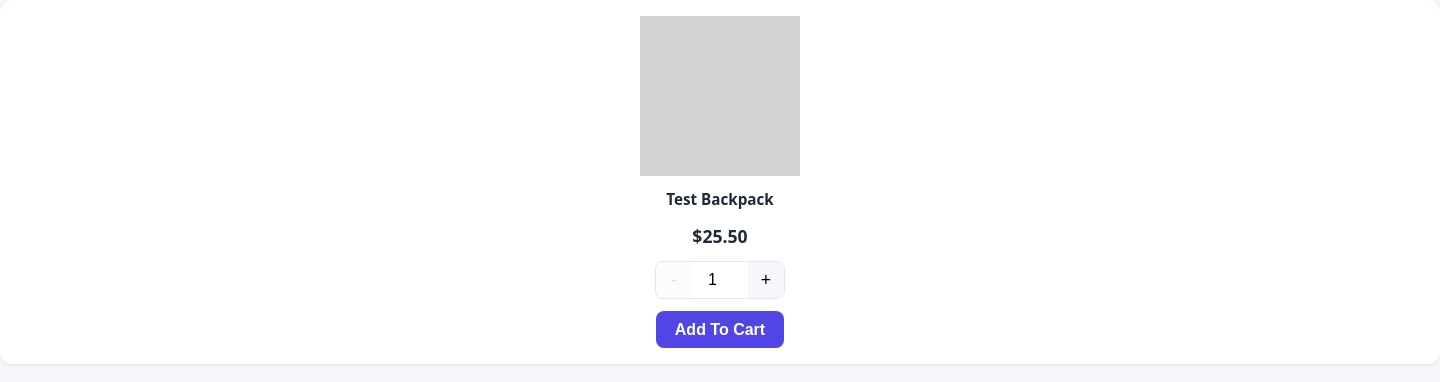
Test: ProductCard › resets the quantity to 1 after adding
This screenshot has width=1440, height=382.
Click the button named "increase quantity" at point(766, 280), box [748,262,784,298]
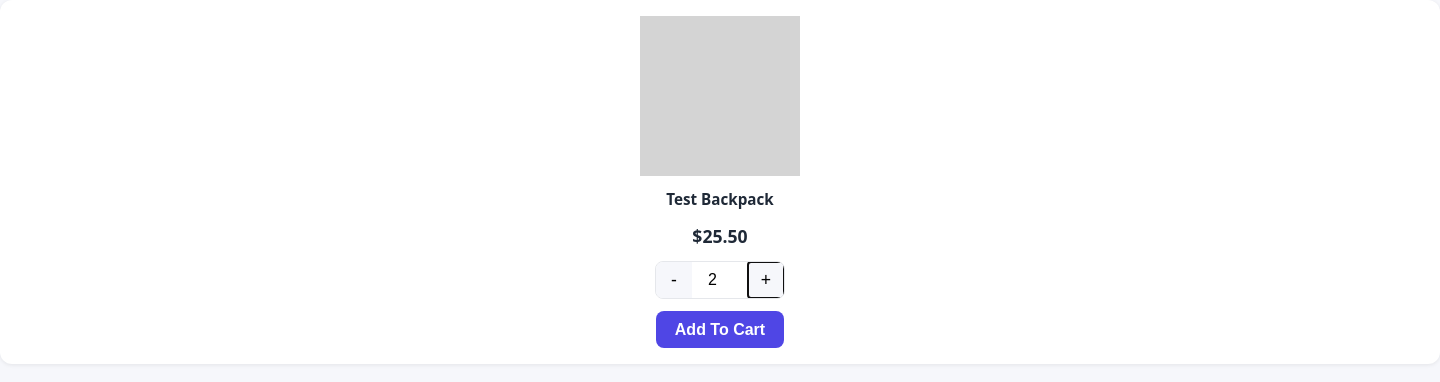
Click the button "Add To Cart" at point(720, 330), box [656,311,784,348]
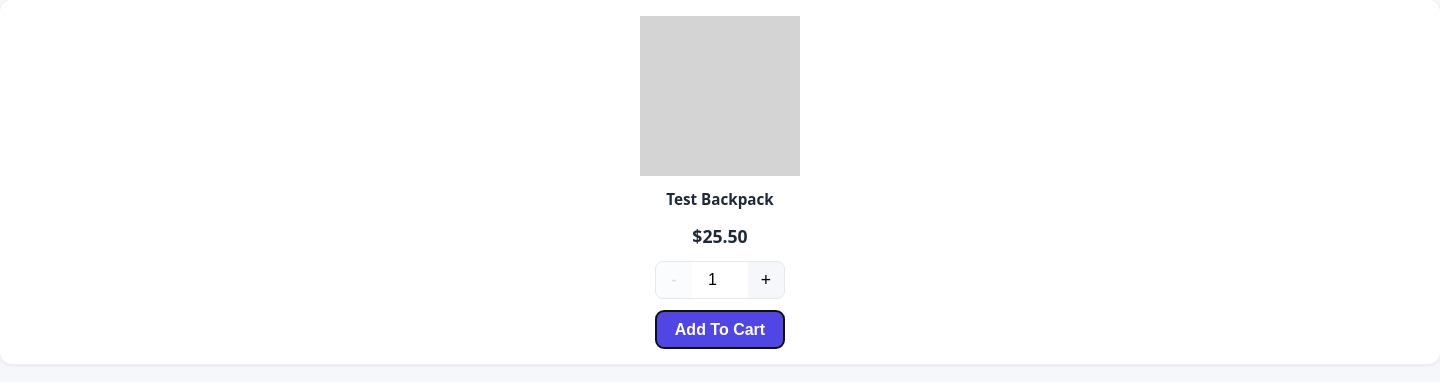
expect the number field named "Quantity" holds "1": met, box [692,262,748,298]
